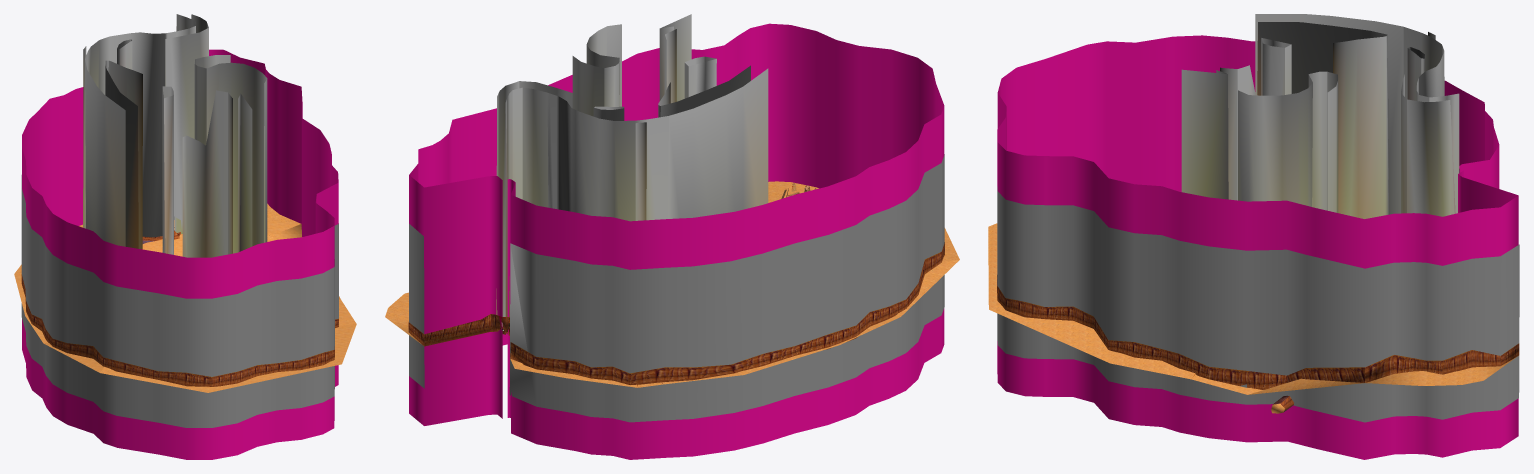
The model's file is Canyon.FBX.
3 views of the same model, side by side, from view 1: azimuth 30°, elevation 25°; view 2: azimuth 150°, elevation 25°; view 3: azimuth 270°, elevation 25° (orthographic). The views are drawn at different scales.
Parts seen in each view (by area): view 1: DesertWallCollide, JumpGuides, Bondary_collide, Canyon_Base_33, Canyon_Base_32, Canyon_Base_35, Canyon_Base_36, Canyon_Base_34, Canyon_Base_56, Canyon_Base_45; view 2: DesertWallCollide, Bondary_collide, JumpGuides, Canyon_Base_34, Canyon_Base_37, Canyon_Base_43, Canyon_Base_35, Canyon_Base_39, Canyon_Base_45, Canyon_Base_41; view 3: DesertWallCollide, Bondary_collide, JumpGuides, Canyon_Base_34, Canyon_Base_36, Canyon_Base_50, Canyon_Base_46, Canyon_Base_52, Canyon_Base_33.
Boxes of the visible parts, x1,y1,x2,y2 form: DesertWallCollide: (22,49,338,459); JumpGuides: (83,14,267,257); Bondary_collide: (21,175,338,427); Canyon_Base_33: (202,353,340,392); Canyon_Base_32: (100,357,211,392); Canyon_Base_35: (43,329,103,372); Canyon_Base_36: (323,318,356,364); Canyon_Base_34: (267,203,300,234); Canyon_Base_56: (142,234,182,256); Canyon_Base_45: (25,301,47,343); DesertWallCollide: (409,23,944,459); Bondary_collide: (409,154,944,422); JumpGuides: (496,14,768,316); Canyon_Base_34: (385,292,491,346); Canyon_Base_37: (565,361,666,387); Canyon_Base_43: (731,334,839,374); Canyon_Base_35: (889,252,959,318); Canyon_Base_39: (510,342,574,377); Canyon_Base_45: (828,306,900,348); Canyon_Base_41: (662,364,743,384); DesertWallCollide: (997,35,1518,459); Bondary_collide: (997,187,1519,422); JumpGuides: (1181,14,1459,218); Canyon_Base_34: (1365,343,1519,385); Canyon_Base_36: (989,286,1110,363); Canyon_Base_50: (1108,340,1208,379); Canyon_Base_46: (1248,367,1364,413); Canyon_Base_52: (1191,366,1286,394); Canyon_Base_33: (988,226,998,309).
Size of the model in its own units: 45009 by 34259 by 52043.
